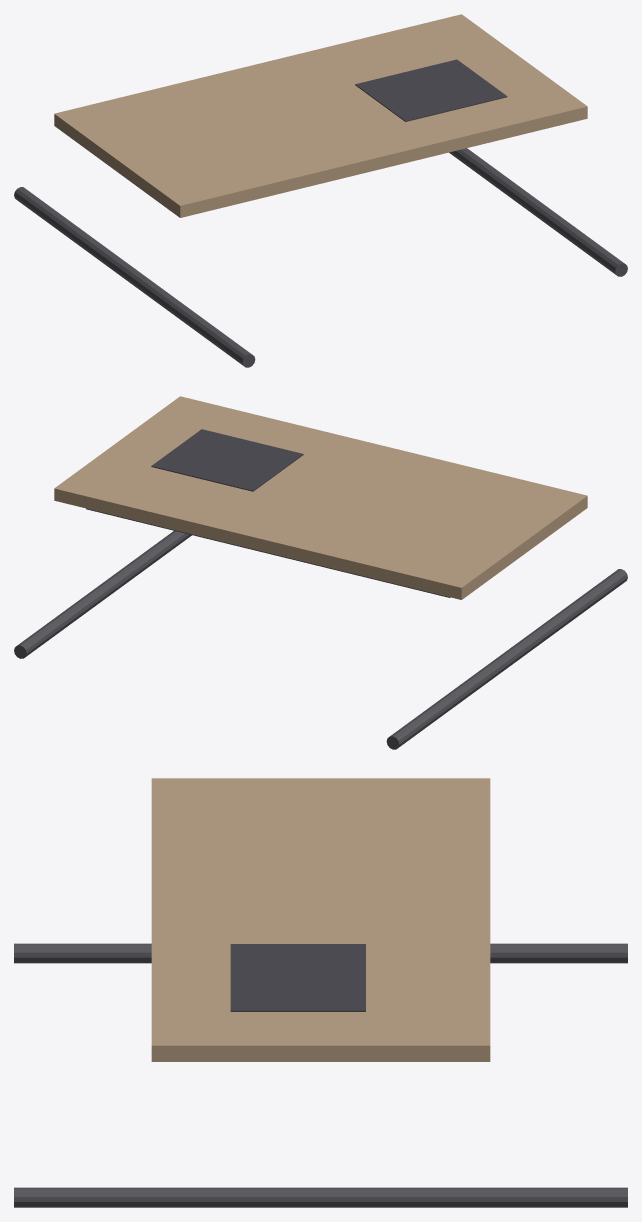
File: desk_prop.glb
3 views of the same model, one above another, from view 1: azimuth 30°, elevation 25°; view 2: azimuth 150°, elevation 25°; view 3: azimuth 270°, elevation 25° (orthographic). The views are drawn at different scales.
Parts seen in each view (by area): view 1: geometry_0; view 2: geometry_0; view 3: geometry_0.
Boxes of the visible parts, bbox=[...] form: geometry_0: bbox=[14, 14, 627, 367]; geometry_0: bbox=[14, 396, 627, 749]; geometry_0: bbox=[14, 778, 627, 1207].
Bounding box in the file's own units: 1.4 × 0.4255 × 1.36.
